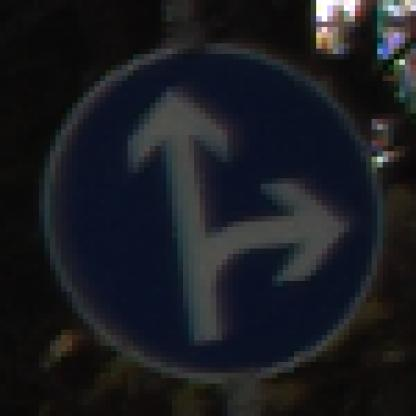Straight or Right: (34, 39, 384, 385)
